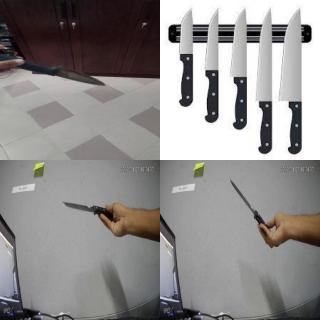knife: (282, 0, 308, 111), (258, 0, 280, 113), (228, 177, 270, 229), (229, 2, 251, 100), (173, 7, 199, 75), (45, 64, 108, 90), (205, 5, 223, 90), (60, 198, 116, 220)
